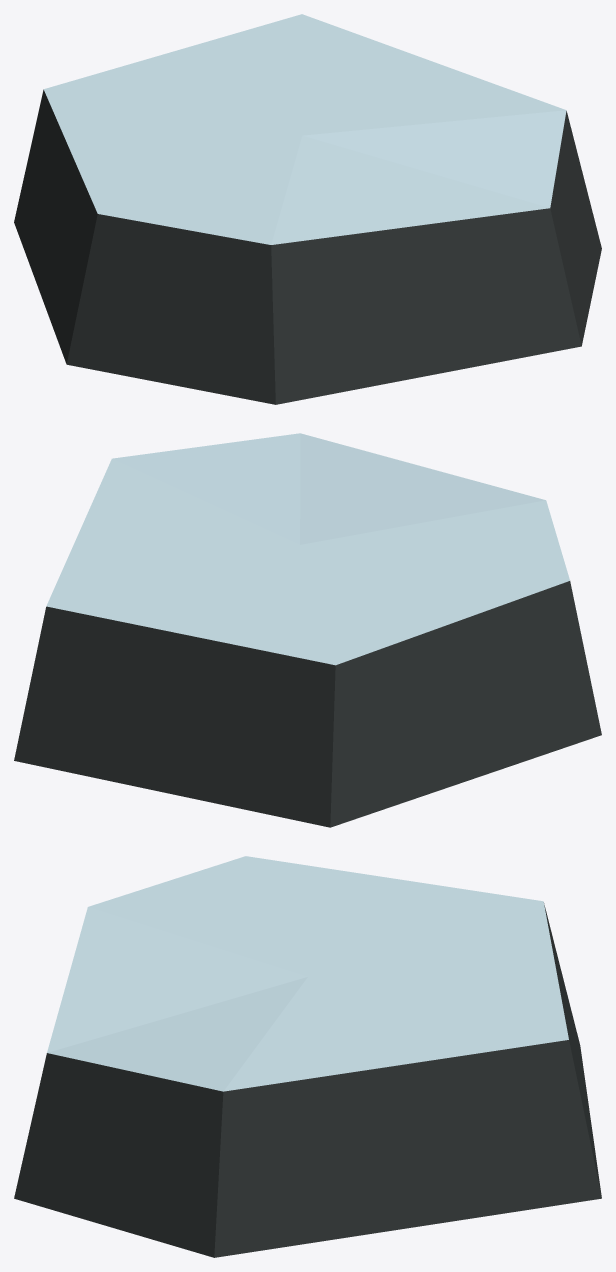
The model's file is SM_Env_Generic_Rock_02_Snow.fbx.
The picture shows the model from 3 angles, top to bottom: view 1: azimuth 30°, elevation 25°; view 2: azimuth 150°, elevation 25°; view 3: azimuth 270°, elevation 25°; orthographic projection. The views are drawn at different scales.
Visible parts, largest first — view 1: SM_Env_Generic_Rock_02_Snow; view 2: SM_Env_Generic_Rock_02_Snow; view 3: SM_Env_Generic_Rock_02_Snow.
Boxes of the visible parts, bbox=[...] form: SM_Env_Generic_Rock_02_Snow: bbox=[14, 14, 601, 404]; SM_Env_Generic_Rock_02_Snow: bbox=[14, 433, 601, 827]; SM_Env_Generic_Rock_02_Snow: bbox=[14, 856, 601, 1257].
Bounding box in the file's own units: 63.05 × 16.58 × 58.65.
Materials: 1 (1 with a texture image).
